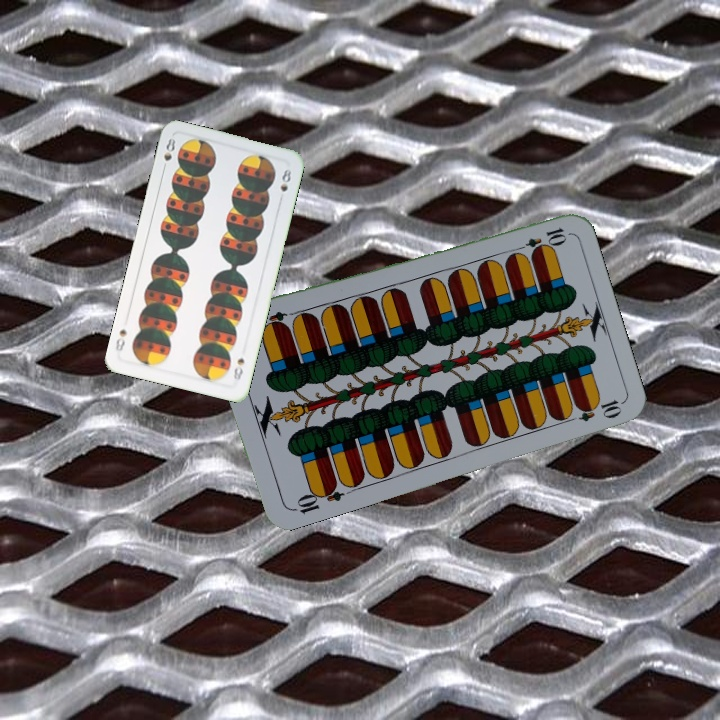E10: (288, 479, 346, 517), (511, 223, 569, 256)
S8: (159, 134, 178, 174), (229, 354, 247, 385)
